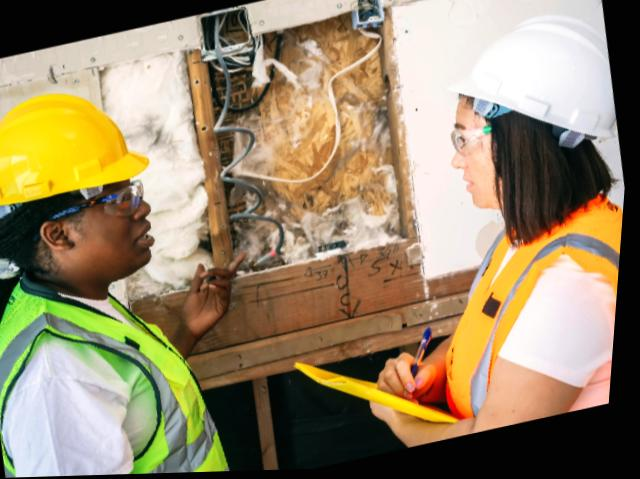helmet: (435, 2, 628, 169), (0, 64, 164, 217)
vest: (0, 244, 254, 479), (396, 191, 628, 445)
